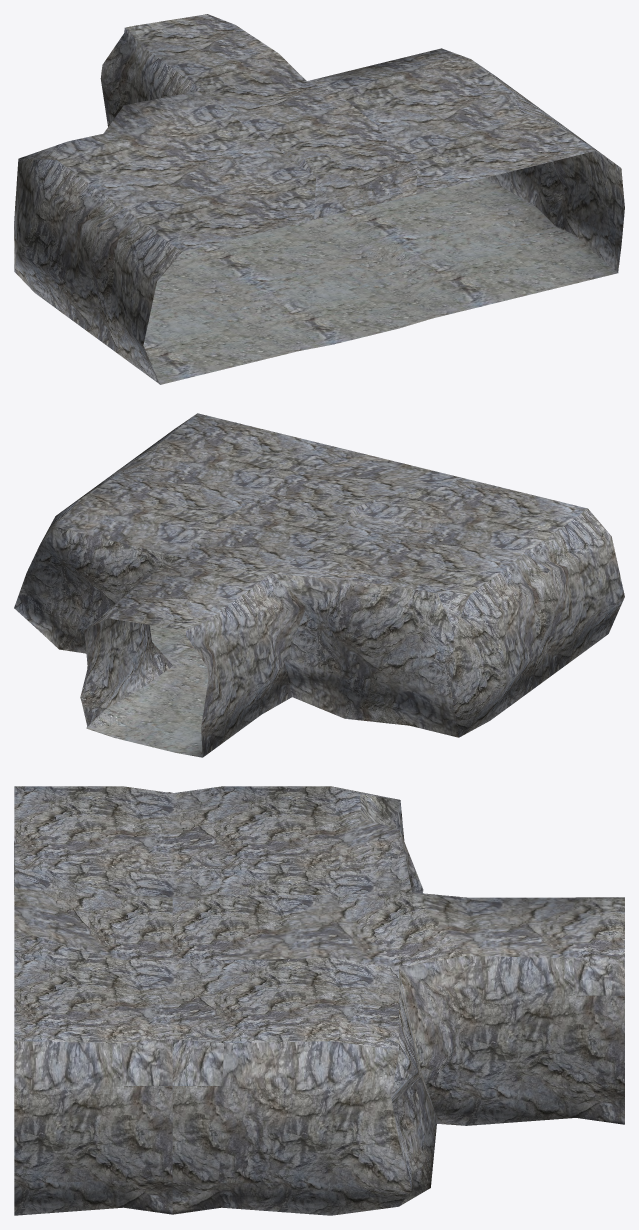
Rendered from room.fbx.
The picture shows the model from 3 angles, top to bottom: view 1: azimuth 30°, elevation 25°; view 2: azimuth 150°, elevation 25°; view 3: azimuth 270°, elevation 25°; orthographic projection. The views are drawn at different scales.
Visible parts, largest first — view 1: Mine_08; view 2: Mine_08; view 3: Mine_08.
Part boxes in pixels (x1=…): Mine_08: x1=14, y1=14, x2=624, y2=384; Mine_08: x1=14, y1=413, x2=624, y2=757; Mine_08: x1=14, y1=786, x2=624, y2=1215.
Bounding box in the file's own units: 1307 × 360 × 1118.
